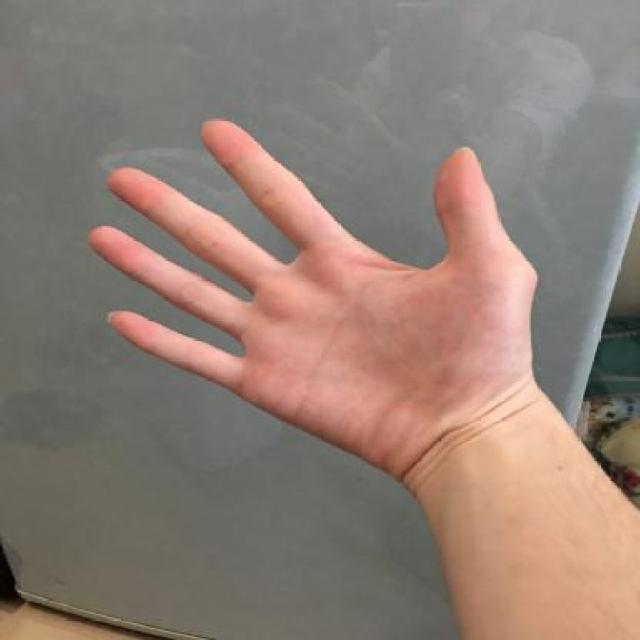bare_hand: (77, 110, 554, 488)
